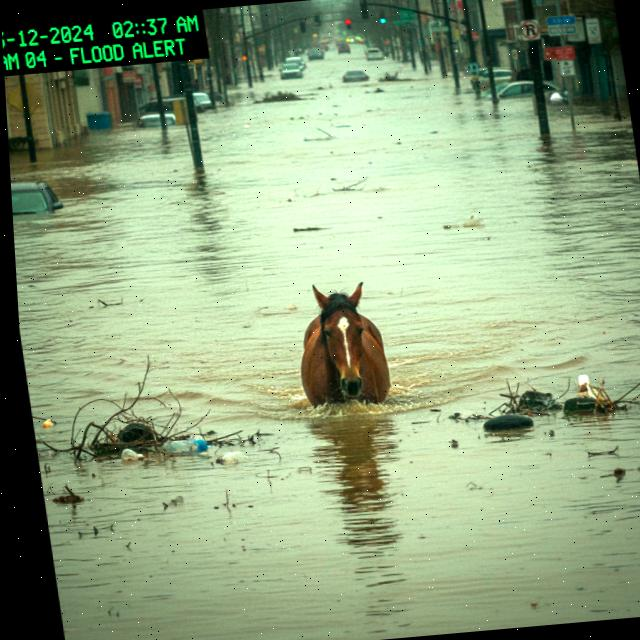horse: (282, 266, 411, 422)
